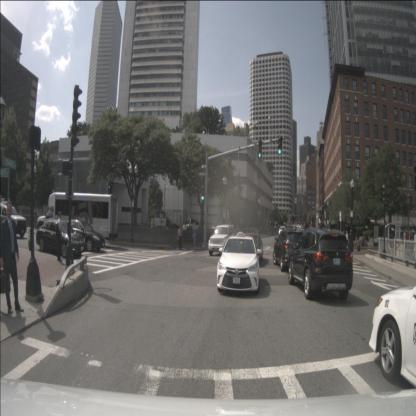human-pedestrian-adult: (0, 200, 24, 314), (56, 210, 62, 262), (178, 224, 183, 250), (192, 221, 197, 245), (408, 229, 412, 249), (344, 230, 348, 249), (403, 230, 407, 249)
vehicle-bus-rigid: (36, 192, 118, 247)
vehicle-car: (368, 284, 416, 391), (287, 228, 353, 300), (216, 232, 262, 294), (36, 220, 85, 257), (273, 228, 310, 272), (61, 220, 106, 252), (0, 203, 27, 238), (208, 225, 236, 255), (240, 234, 263, 264), (150, 210, 166, 231), (182, 218, 199, 234), (278, 226, 286, 237)
